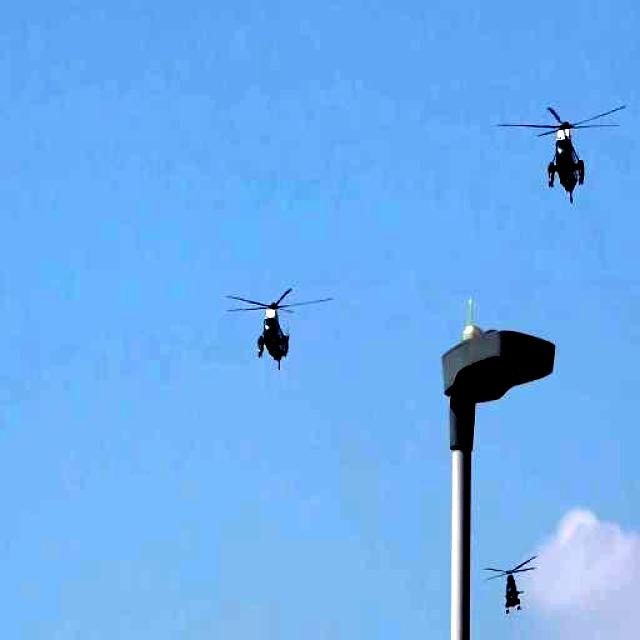drone: (509, 99, 631, 211), (225, 282, 324, 370), (484, 552, 540, 615)
